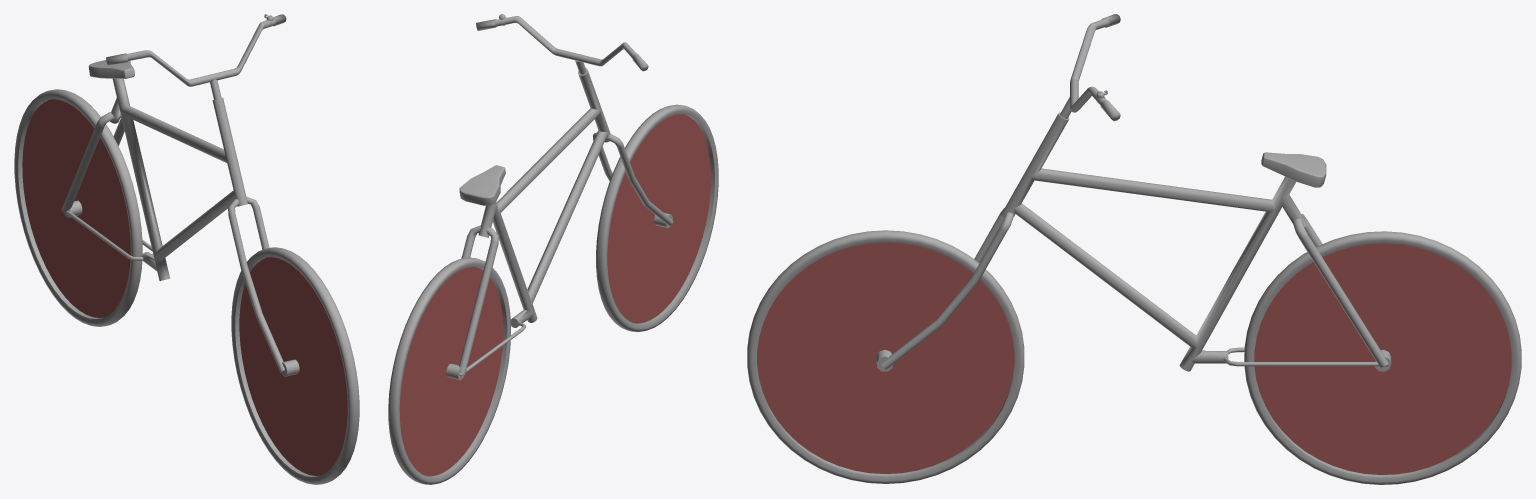
The model's file is Bike 1.fbx.
The picture shows the model from 3 angles, left to right: view 1: azimuth 30°, elevation 25°; view 2: azimuth 150°, elevation 25°; view 3: azimuth 270°, elevation 25°; orthographic projection. The views are drawn at different scales.
Visible parts, largest first — view 1: Bike; view 2: Bike; view 3: Bike.
Part boxes in pixels (x1=…): Bike: x1=14, y1=14, x2=359, y2=484; Bike: x1=388, y1=14, x2=718, y2=484; Bike: x1=747, y1=14, x2=1521, y2=484.
Size of the model in its own units: 70.72 by 141 by 231.
